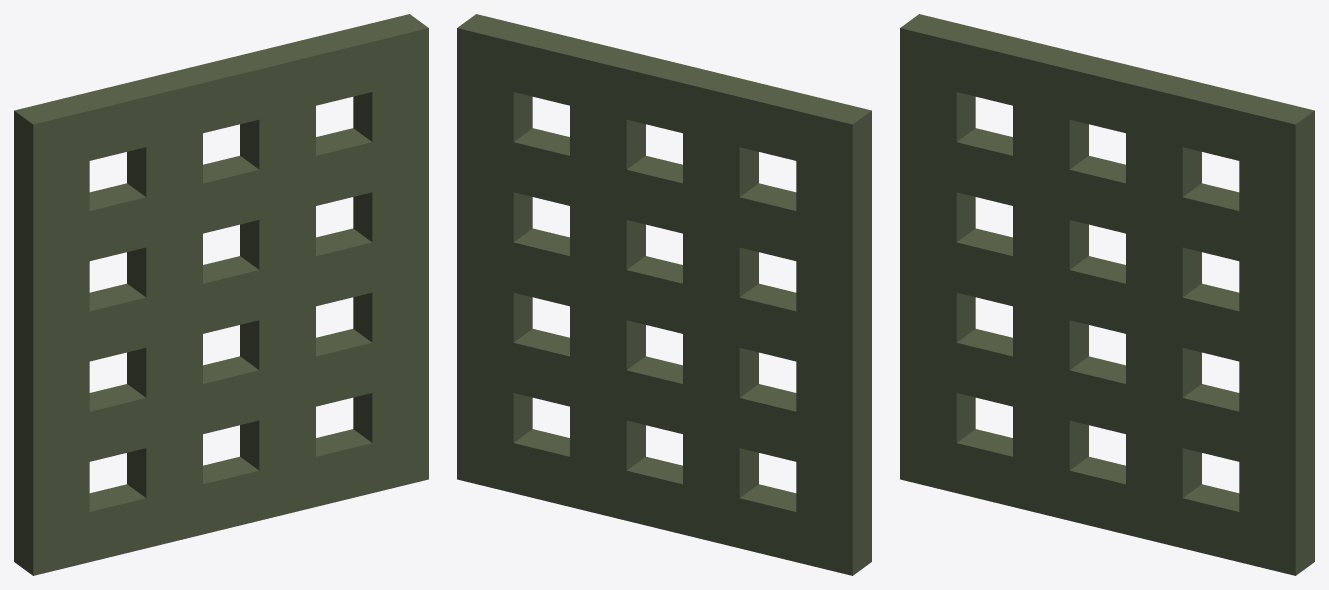
3 views of the same model, side by side, from view 1: azimuth 30°, elevation 25°; view 2: azimuth 150°, elevation 25°; view 3: azimuth 330°, elevation 25° (orthographic).
Visible parts, largest first — view 1: grid02; view 2: grid02; view 3: grid02.
Boxes of the visible parts, x1=… form: grid02: x1=14, y1=14, x2=428, y2=575; grid02: x1=457, y1=14, x2=871, y2=575; grid02: x1=900, y1=14, x2=1314, y2=575.
Size of the model in its own units: 4.16 by 4.54 by 0.3499.
